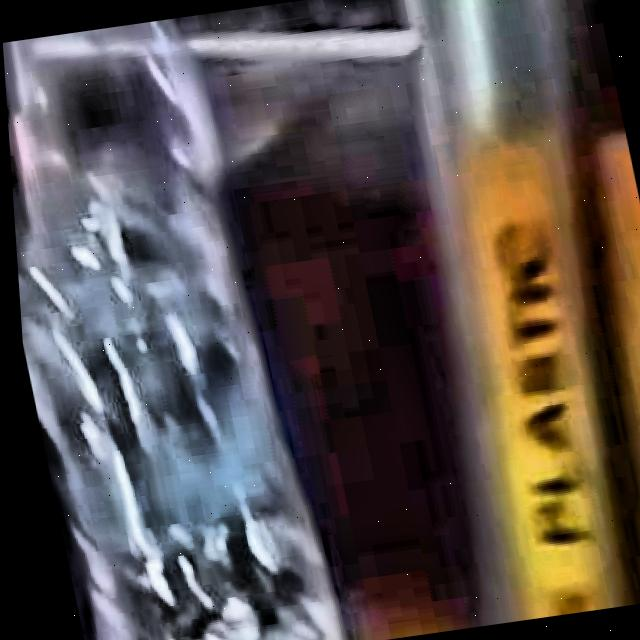plastic: (2, 18, 335, 640)
